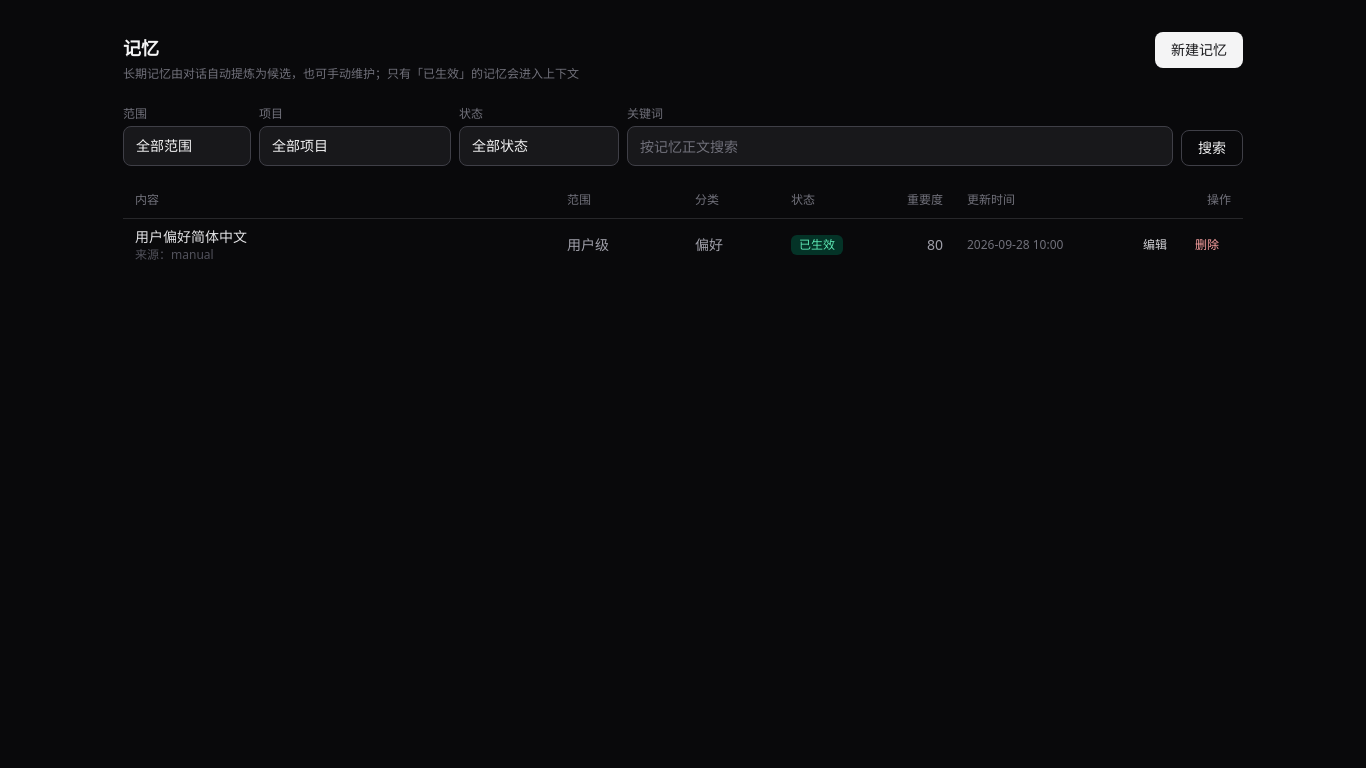
Test: 记忆页：新建 / 编辑 / 删除 › 新建（用户级）：POST /memories，默认候选状态由服务端裁定
This screenshot has width=1366, height=768.
Expected: the text "用户偏好简体中文" is shown, [135,226,247,246]
Click the button "新建记忆" at (1199, 50), box [1155,32,1243,68]
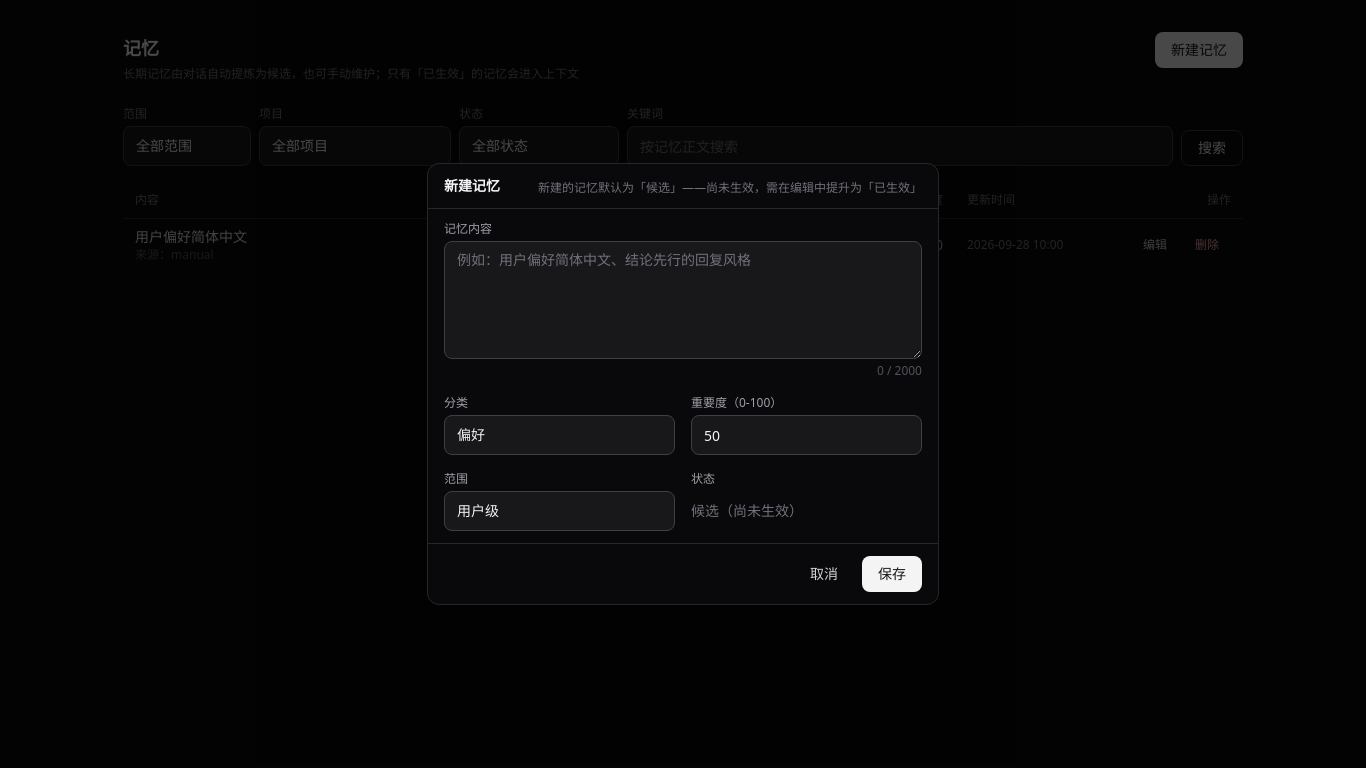
Type "回复先给结论" into the text box labelled "记忆内容" at (683, 300), box [444,241,922,359]
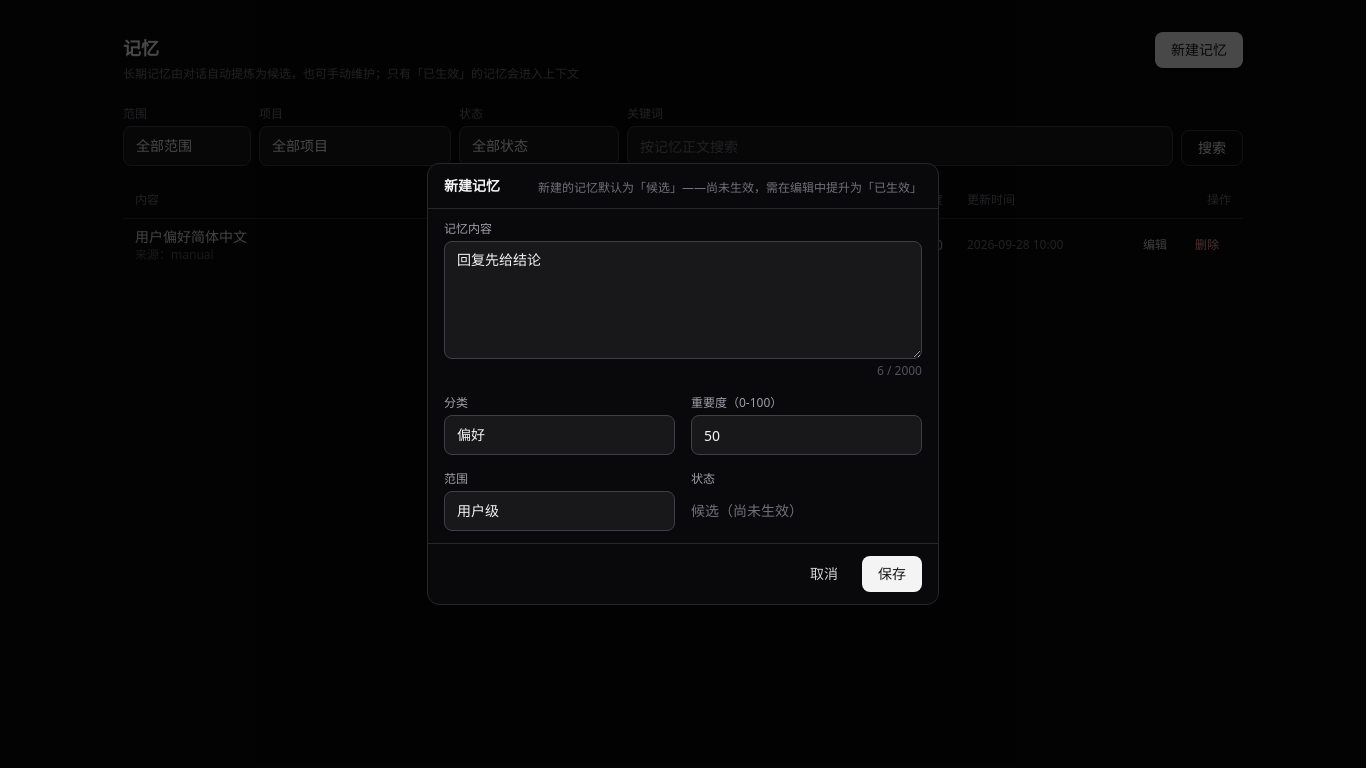
Select "指令" in the dropdown labelled "分类" at (560, 435), box [444,415,675,455]
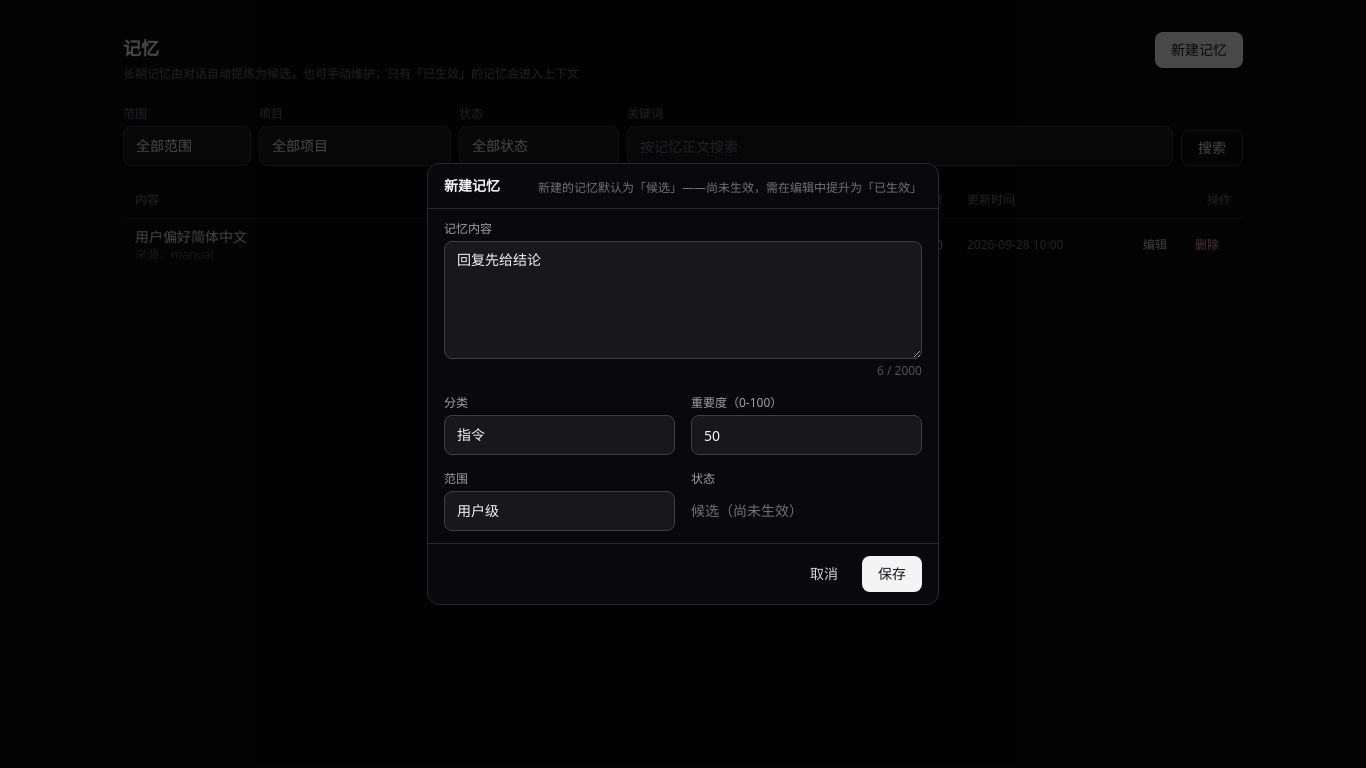
Replace the text in the number field labelled "重要度（0-100）" with "70" at (806, 435), box [691,415,922,455]
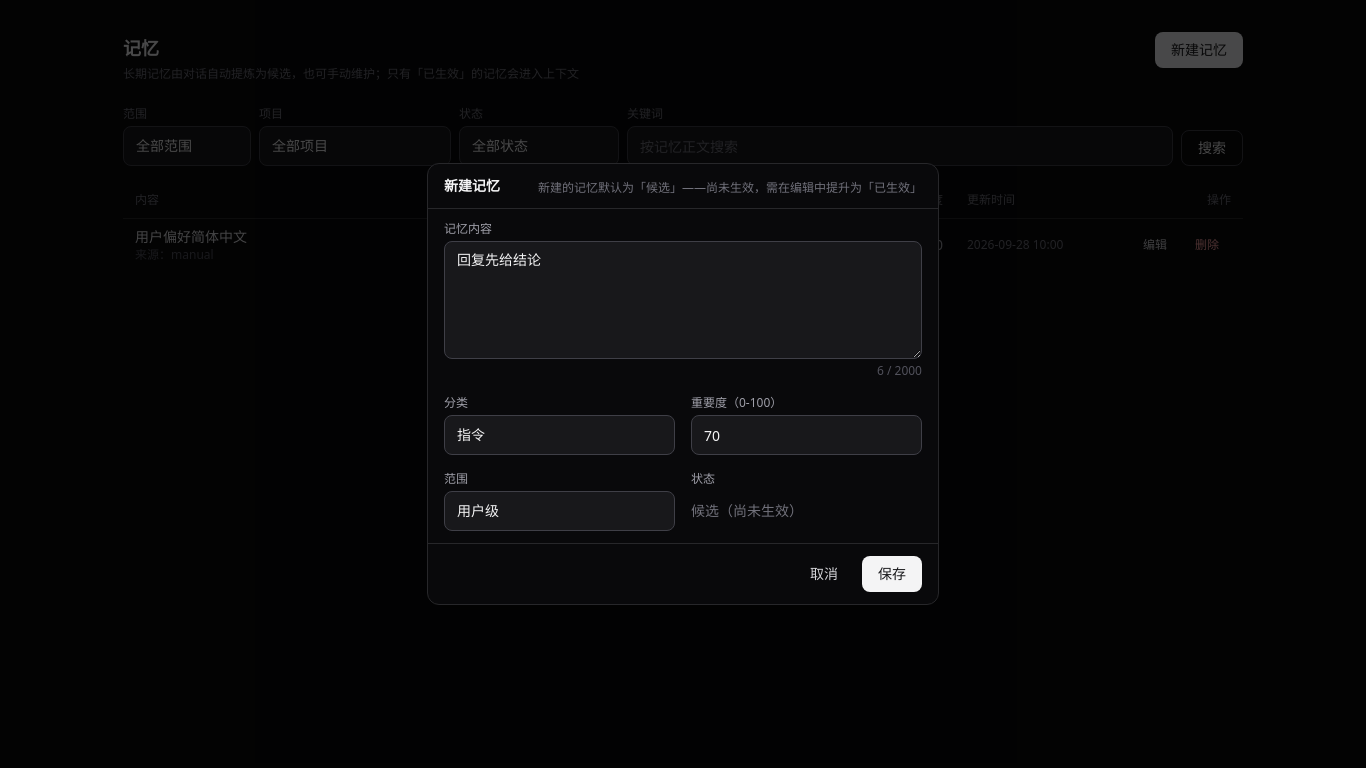
Click the button "保存" at (892, 574), box [862,556,922,592]
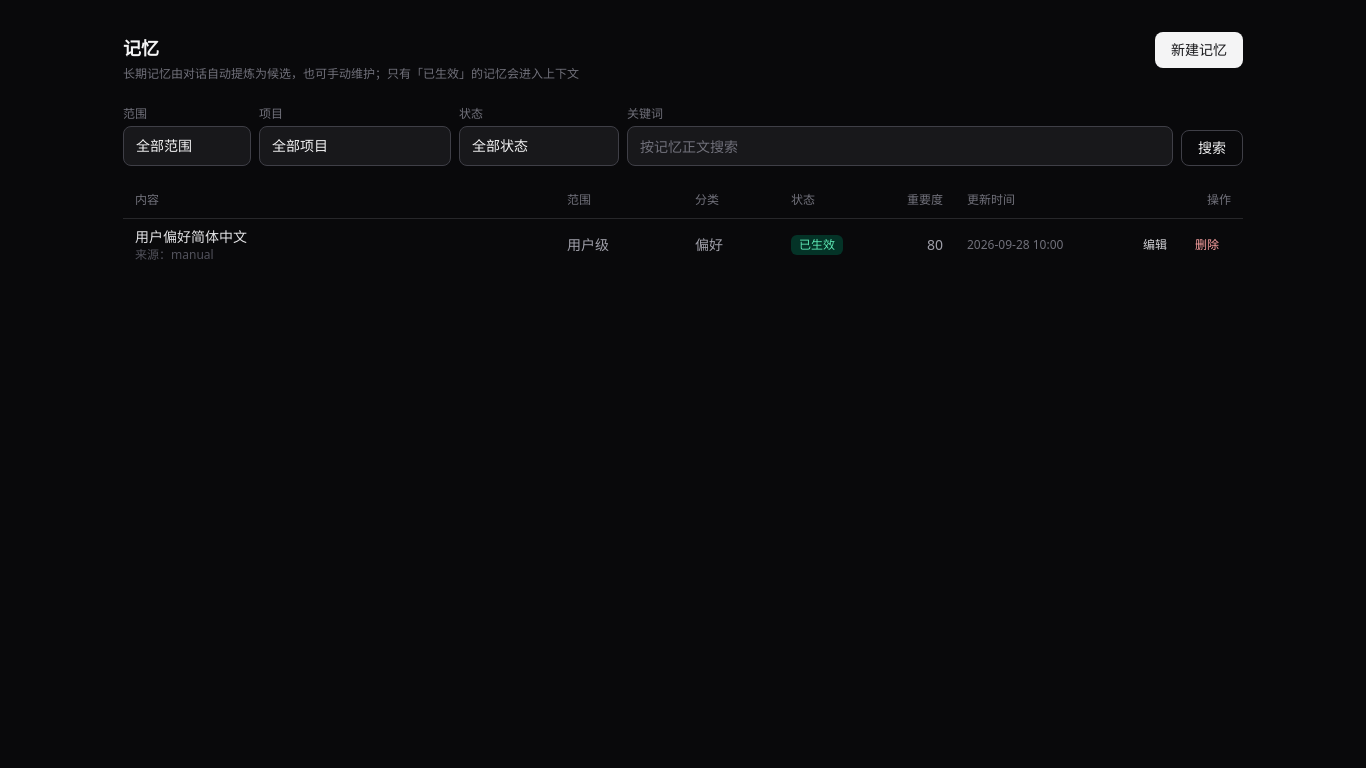
Expected: the dialog is gone
